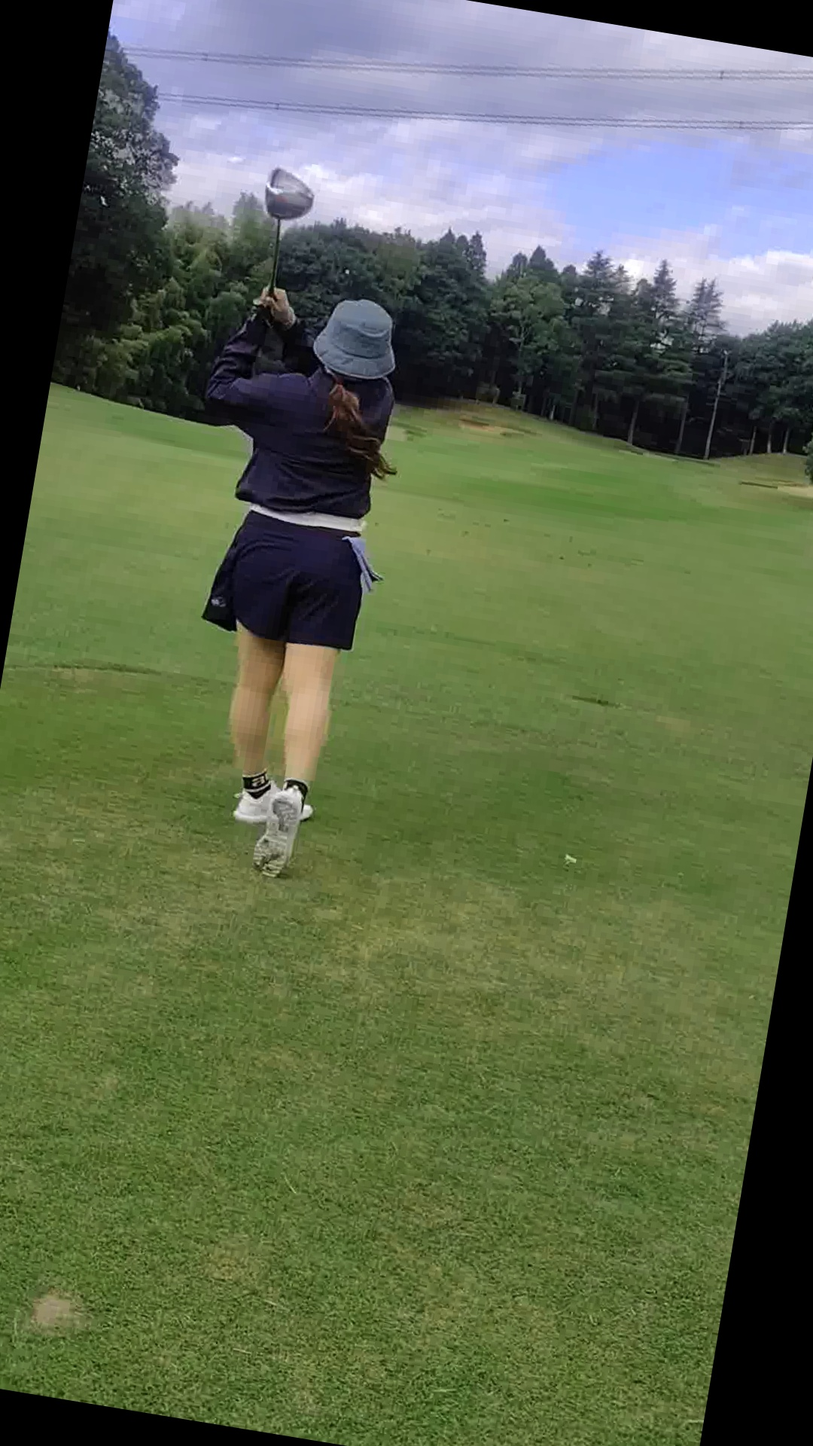clubhead: (176, 131, 470, 371)
